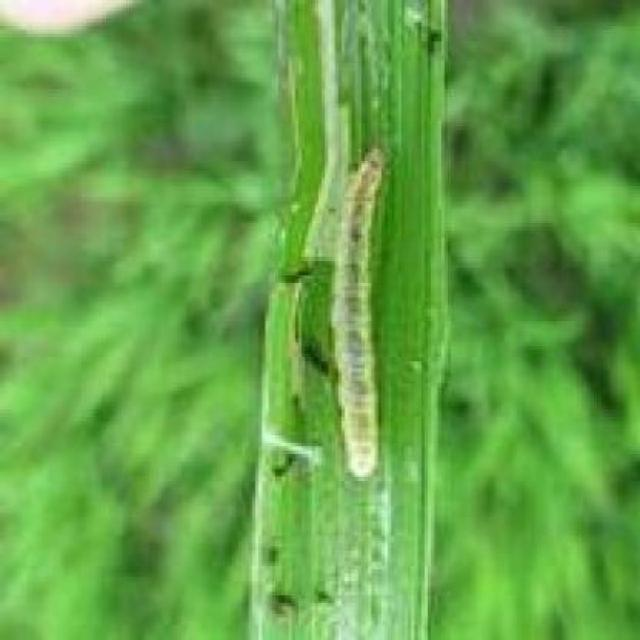leaf-folder: (306, 123, 412, 505)
